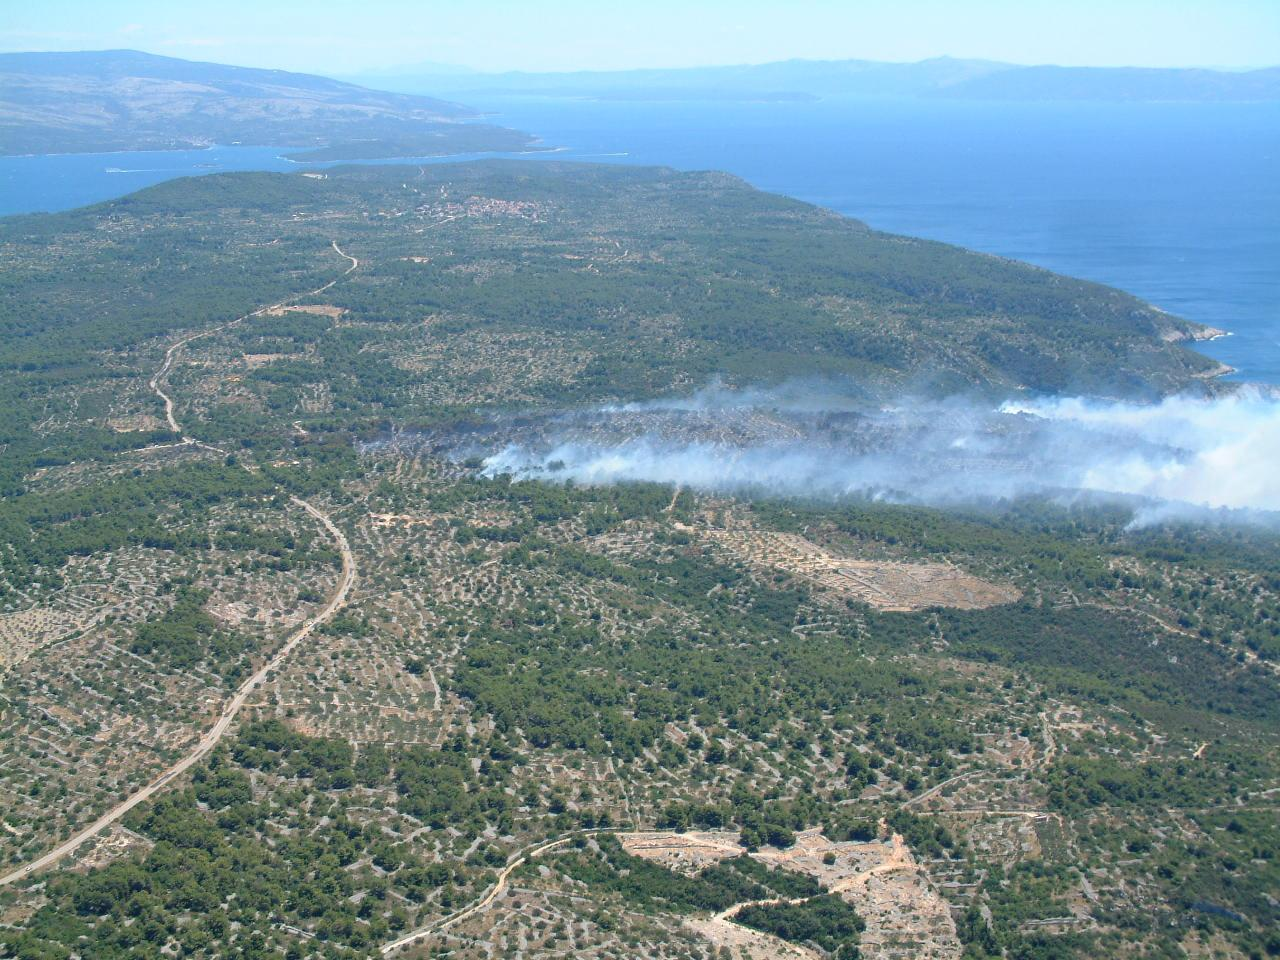Smoke: (363, 365, 1279, 541)
